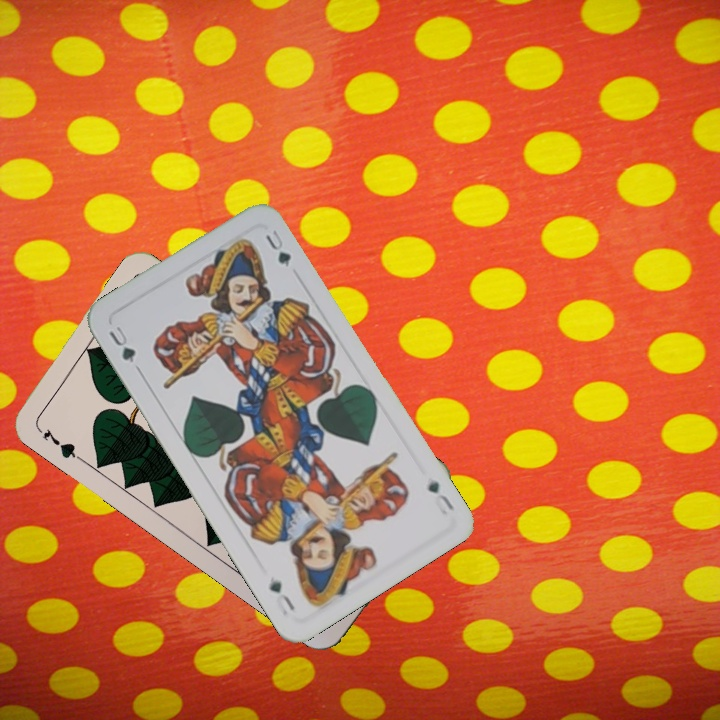G7: (39, 424, 84, 463)
GU: (104, 322, 138, 366), (423, 477, 457, 518)
